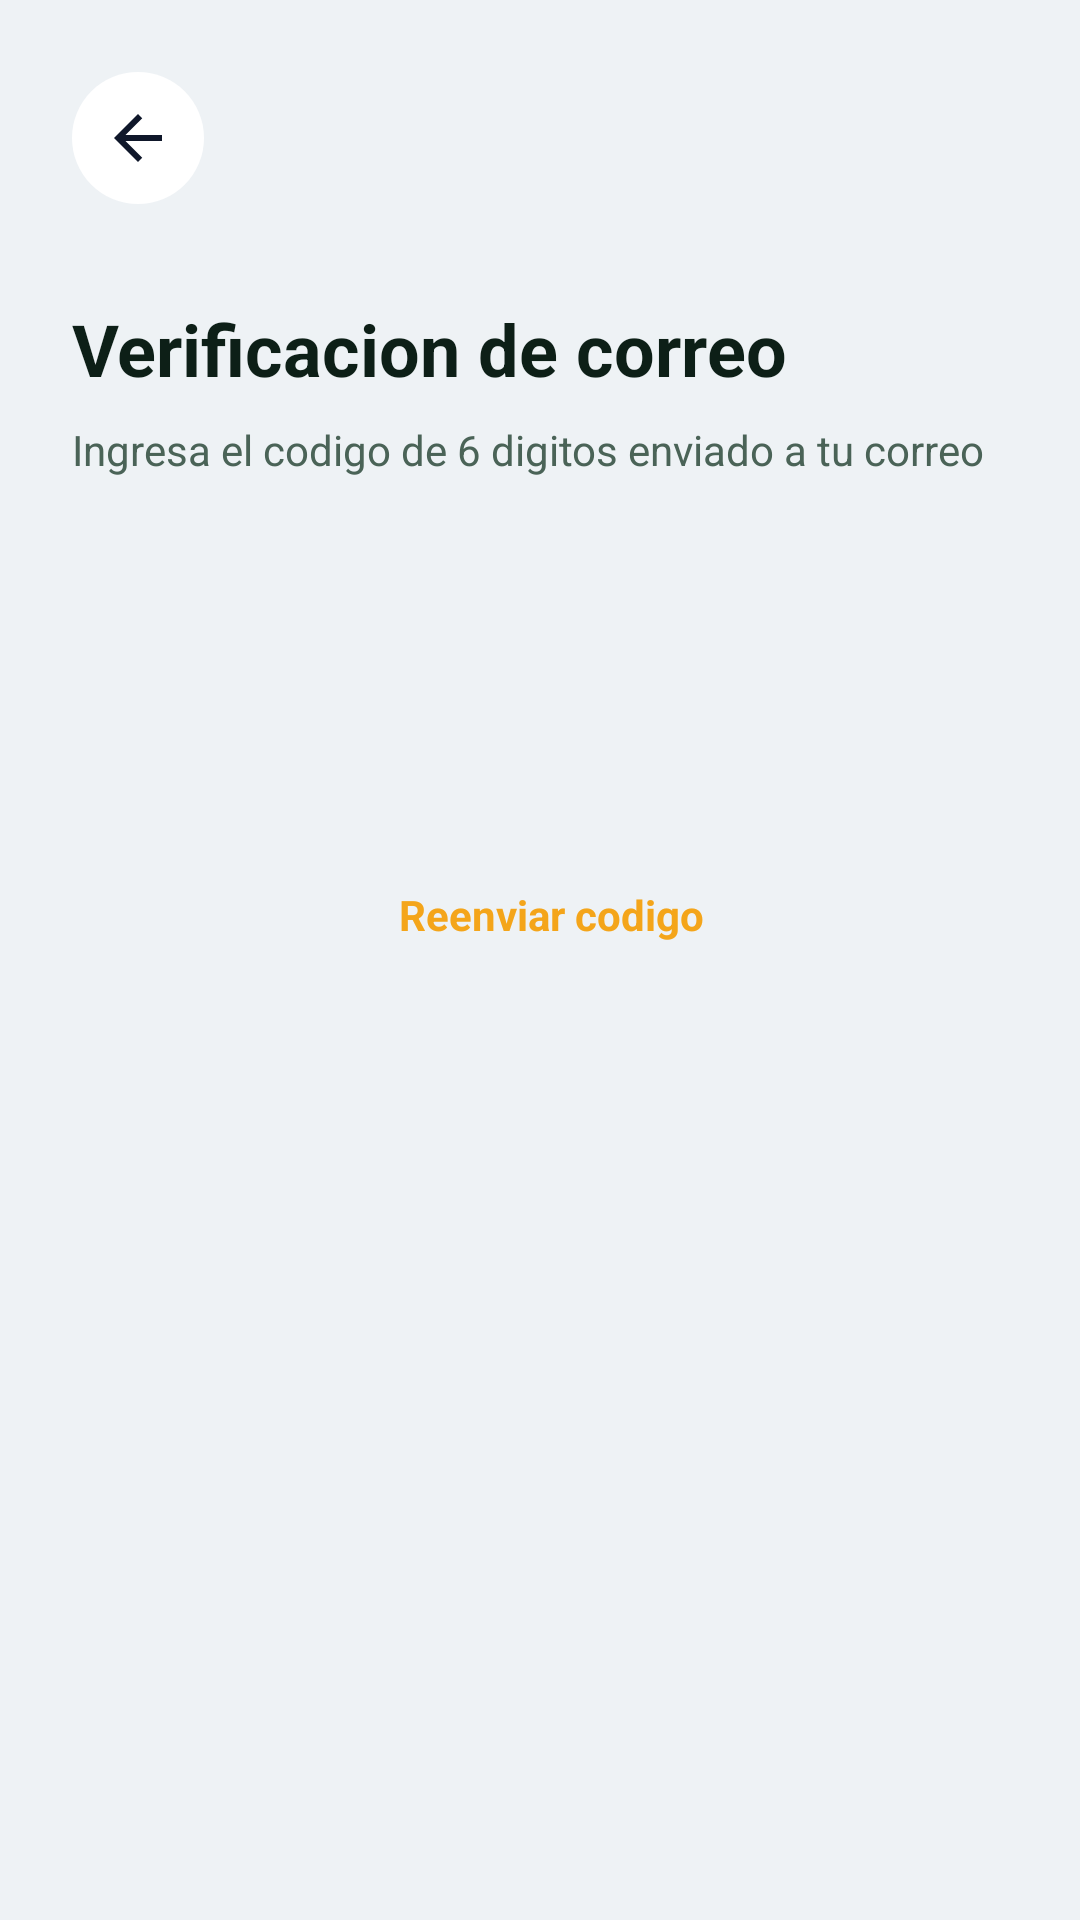

Locate icon controls on the screen. Image size 1080px×1920px, boxes as (x1, y1, x2, y2).
Volver: (72, 72, 204, 204)
